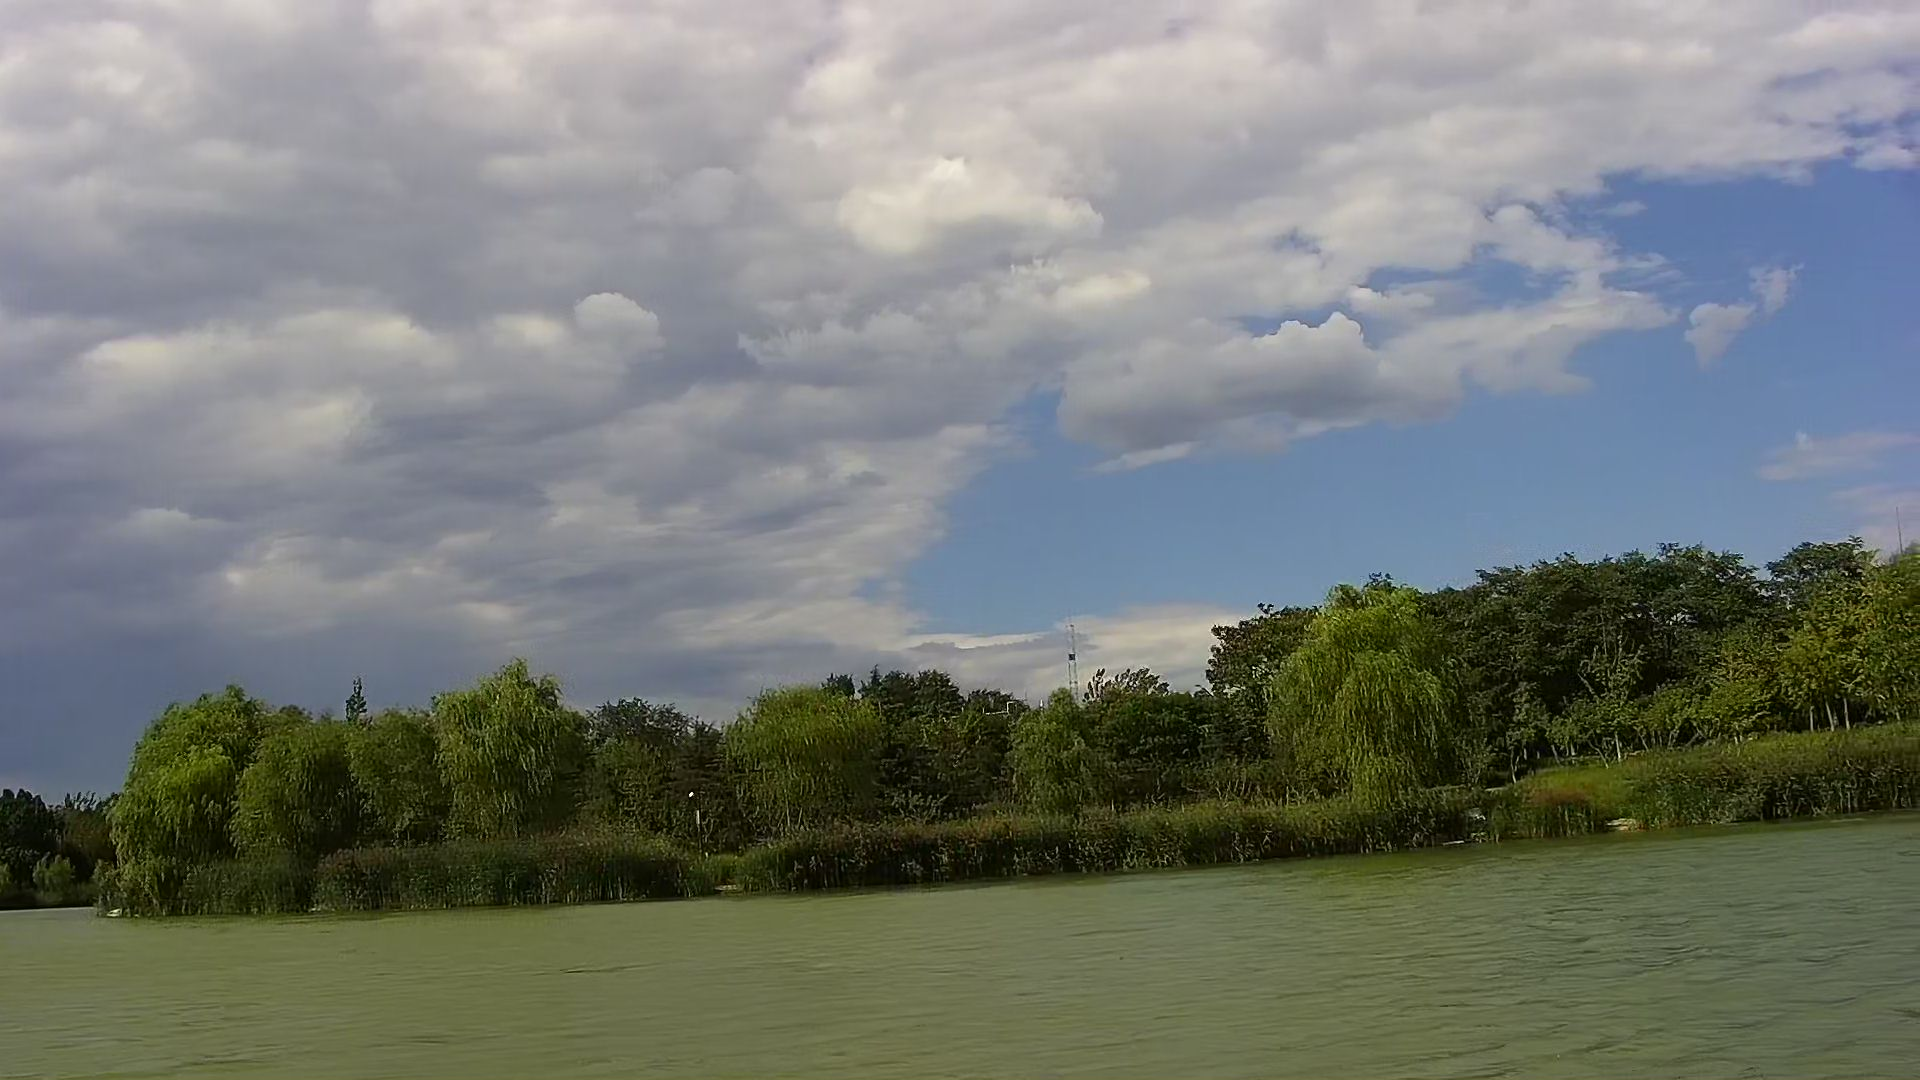rock: (1606, 818, 1644, 836)
